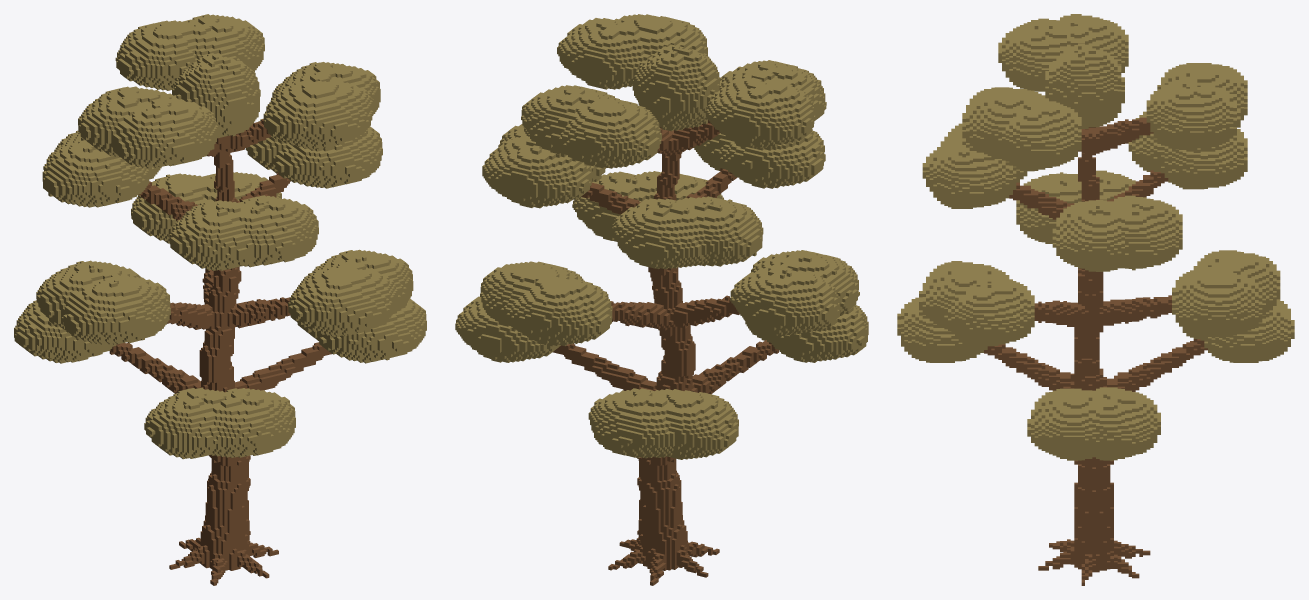
The model's file is visual-far.glb.
3 views of the same model, side by side, from view 1: azimuth 30°, elevation 25°; view 2: azimuth 150°, elevation 25°; view 3: azimuth 270°, elevation 25° (orthographic).
Parts seen in each view (by area): view 1: 既有乔木色阶与高度族; view 2: 既有乔木色阶与高度族; view 3: 既有乔木色阶与高度族.
Part boxes in pixels (<box>): 既有乔木色阶与高度族: <box>14,14,426,585</box>; 既有乔木色阶与高度族: <box>455,14,868,585</box>; 既有乔木色阶与高度族: <box>897,14,1294,585</box>.
Size of the model in its own units: 23 by 31 by 22.
Materials: 3 (3 with a texture image).
